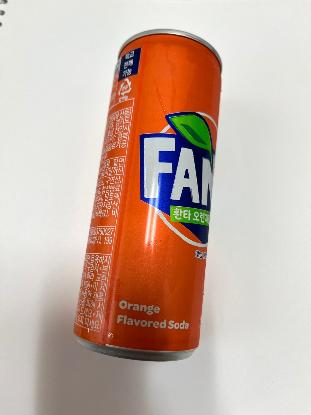Can: (71, 25, 228, 365)
